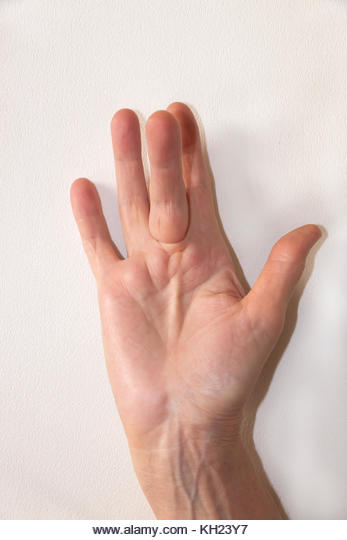non-diseased: (60, 118, 316, 420)
